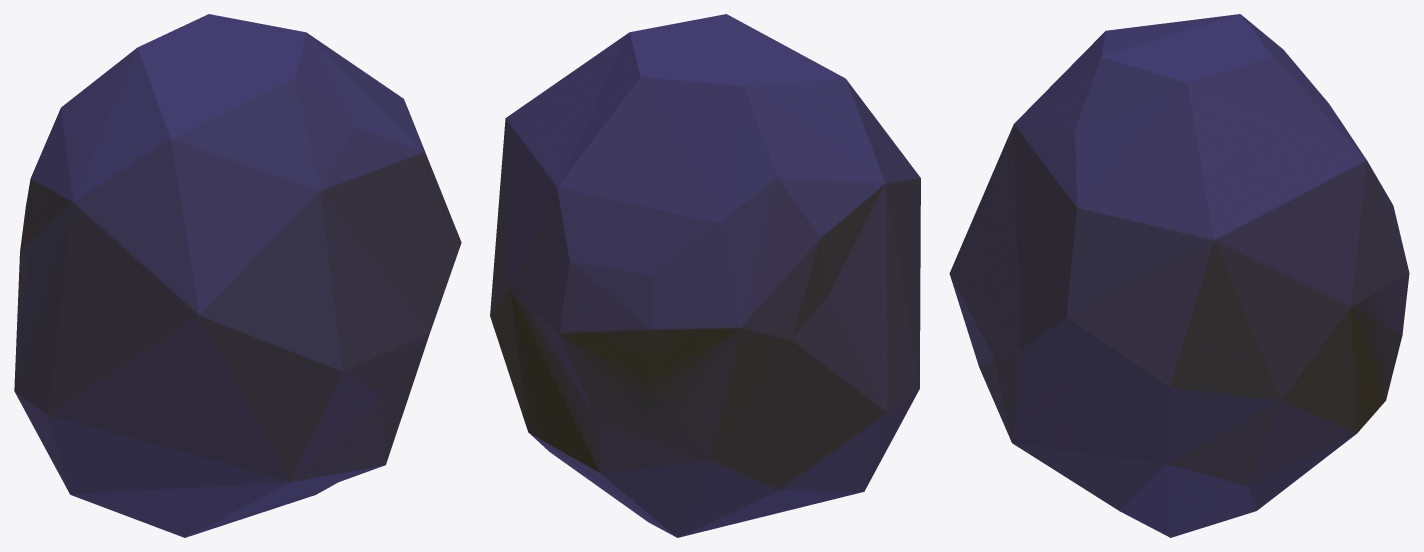
Rendered from scene2rock-night.glb.
The picture shows the model from 3 angles, left to right: view 1: azimuth 30°, elevation 25°; view 2: azimuth 150°, elevation 25°; view 3: azimuth 270°, elevation 25°; orthographic projection.
Parts seen in each view (by area): view 1: scene2.rock; view 2: scene2.rock; view 3: scene2.rock.
Part boxes in pixels (<box>): scene2.rock: <box>14,14,461,537</box>; scene2.rock: <box>490,14,920,537</box>; scene2.rock: <box>949,14,1409,537</box>.
Bounding box in the file's own units: 0.2466 × 0.2583 × 0.237.
Materials: 1 (1 with a texture image).
